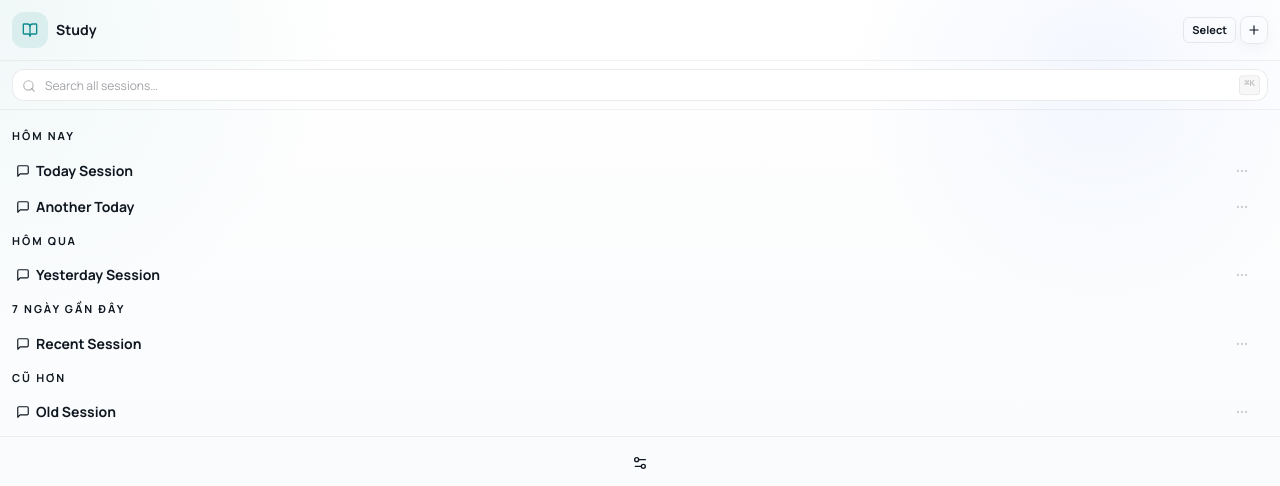
Test: SessionSidebar › enters selection mode and toggles selected sessions instead of opening them
The image size is (1280, 486).
Click the button with test id "session-selection-mode-toggle" at x=1210, y=30, box [1183,17,1236,43]
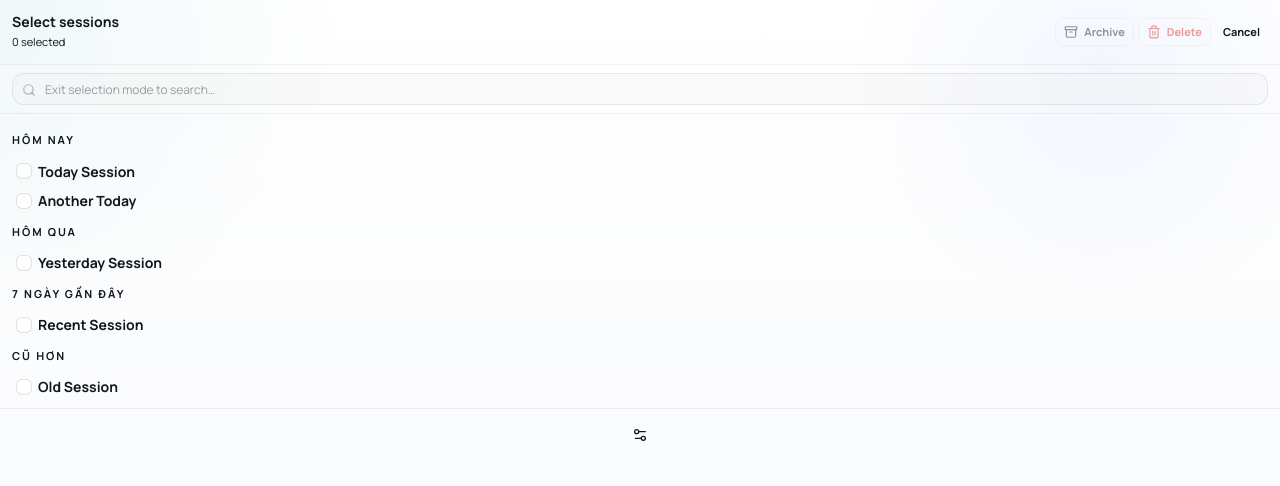
Expected: the text with test id "session-selection-count" reads "0 selected", [12,34,65,49]
Expected: the button with test id "session-menu-more-today-1" is gone
Click the button with test id "session-item-today-1" at x=76, y=171, box [16,162,135,180]
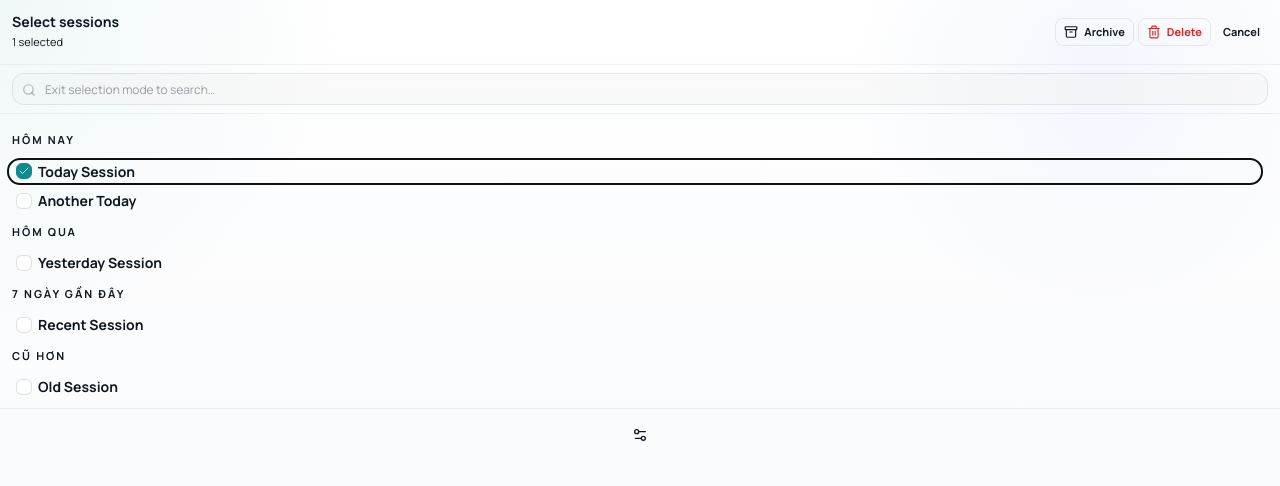
Expected: the text with test id "session-selection-count" reads "1 selected", [12,34,63,49]
Click the button with test id "session-item-today-2" at x=76, y=200, box [16,191,136,210]
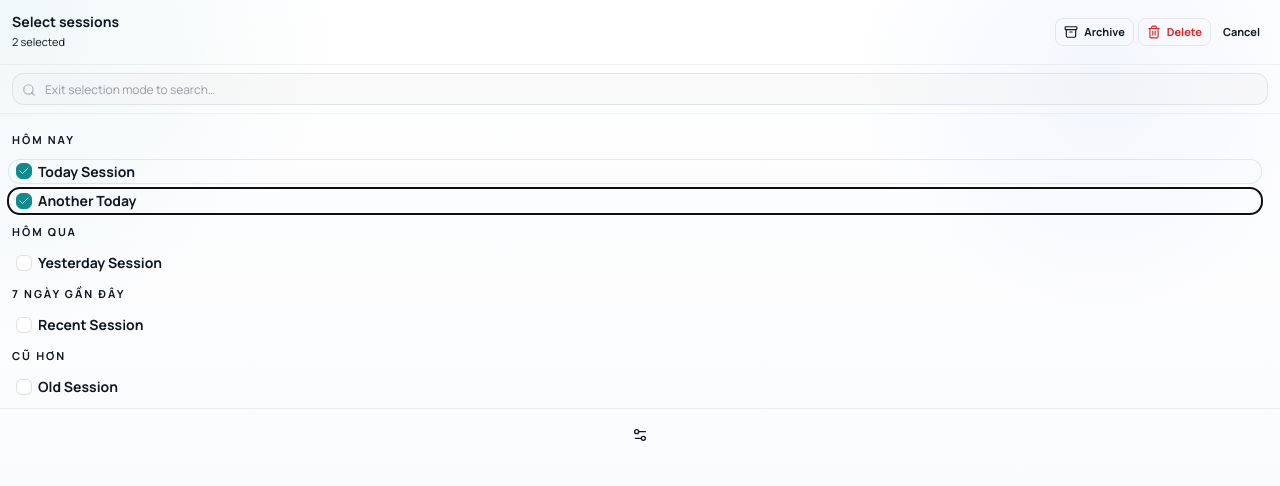
Expected: the text with test id "session-selection-count" reads "2 selected", [12,34,65,49]
